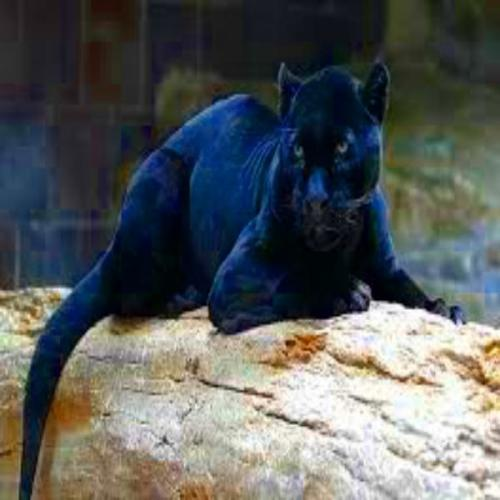panther-endangered: (18, 59, 395, 498)
